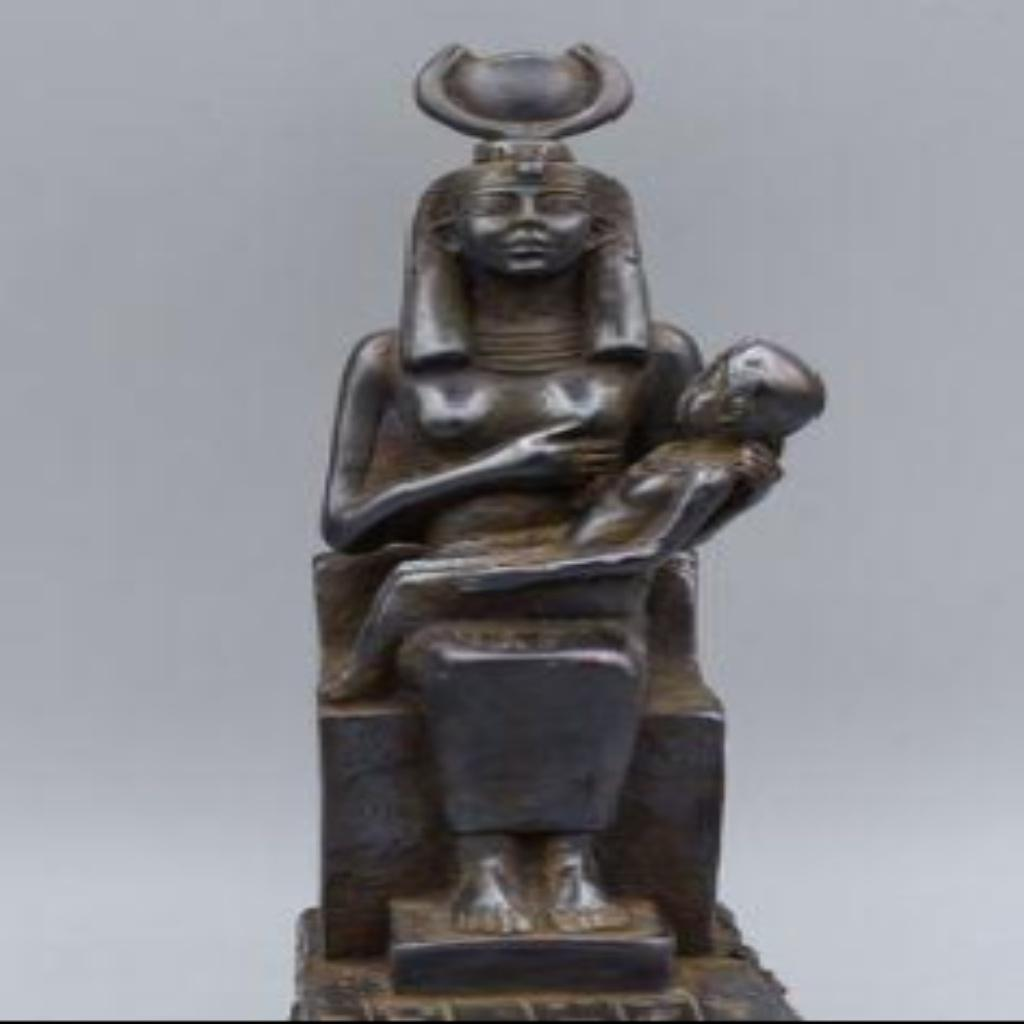Isis with her child: (274, 38, 838, 1018)
